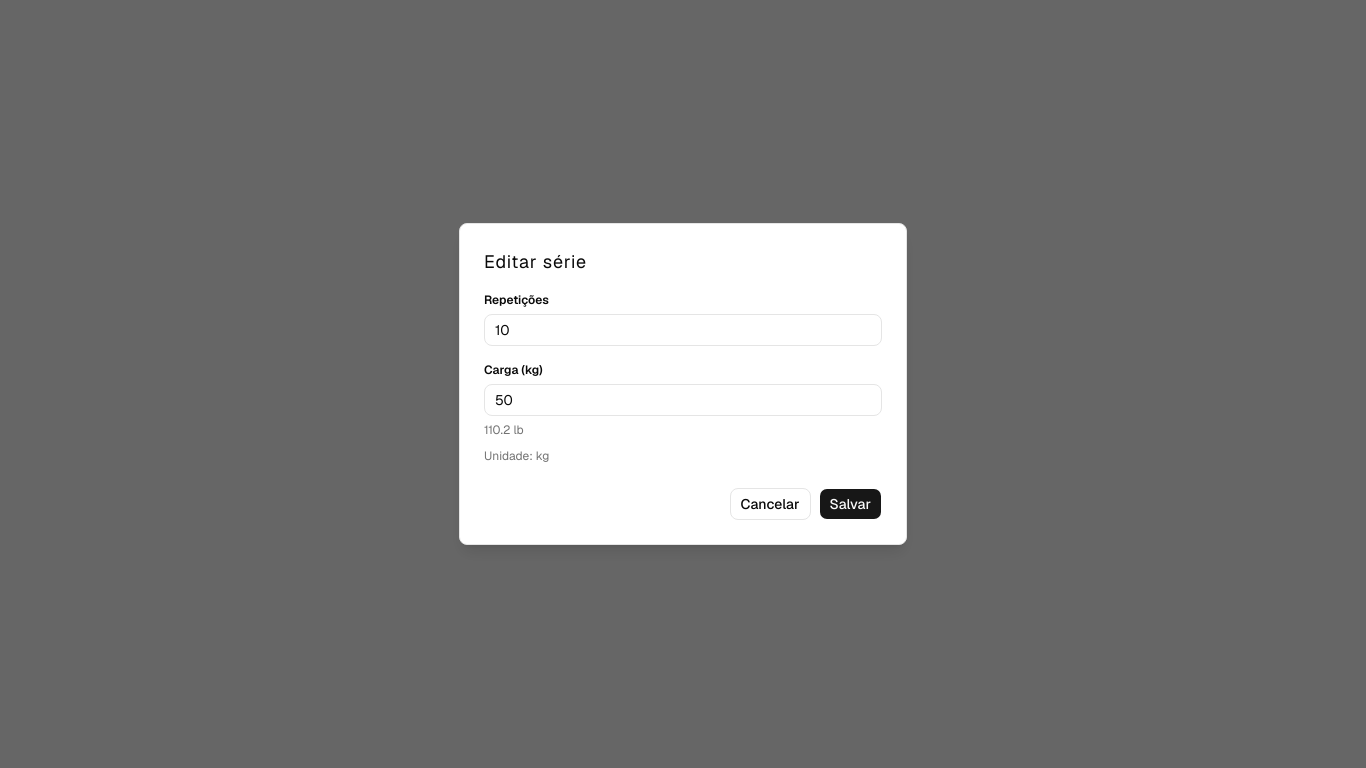
Test: SeriesEditModal (TASK-005 — RED) › validação herdada mostra mensagem visível e mantém o modal aberto
Replace the text in the field labelled "Repetições" with "abc" at (683, 330), box [484,314,882,346]
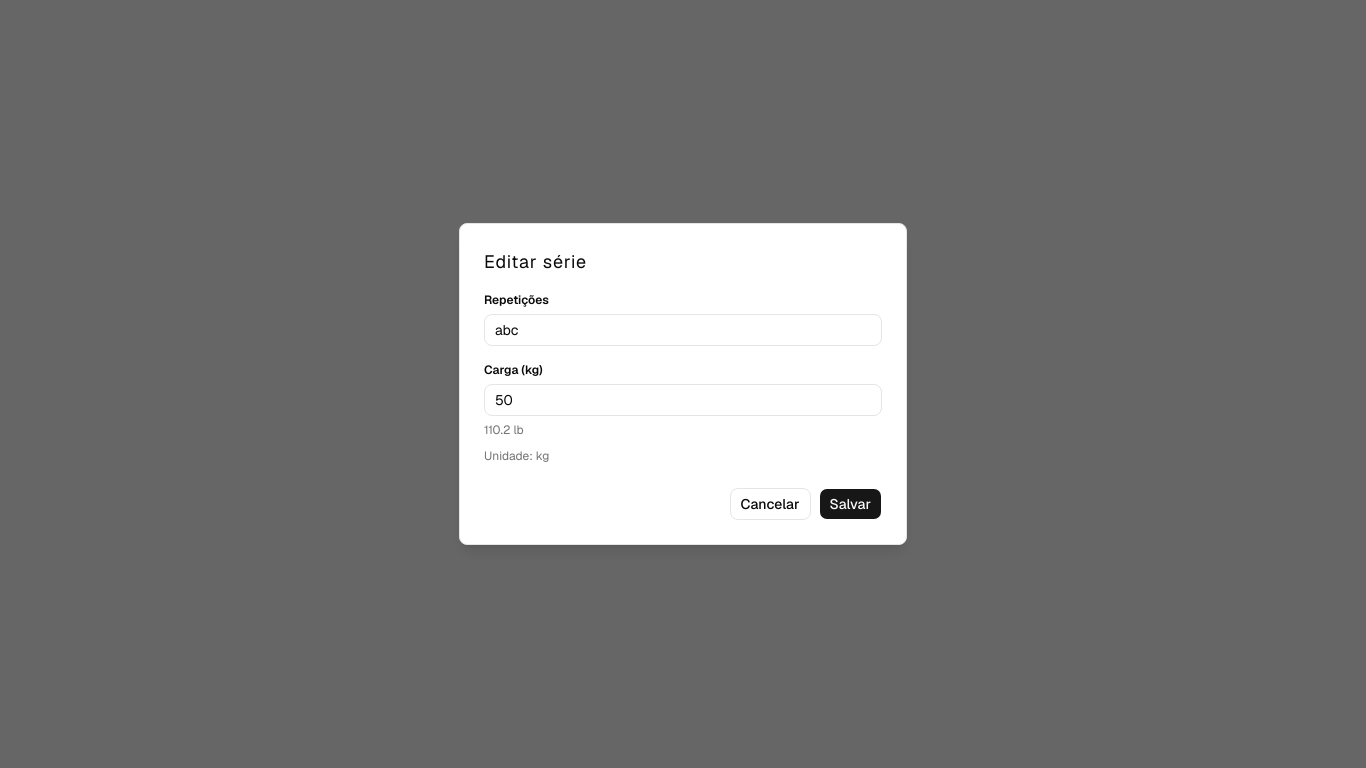
Click the button "Salvar".
click(850, 504)  # box [818,488,882,520]
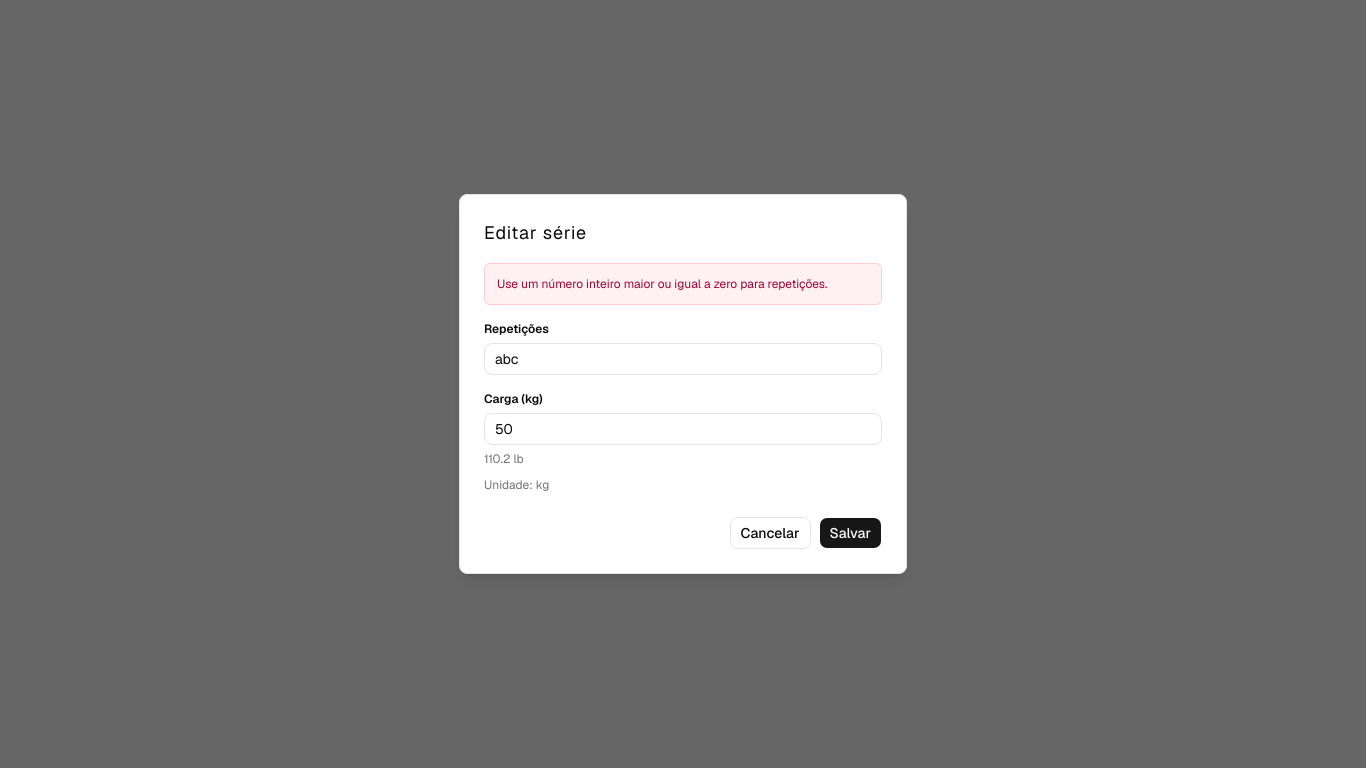
Expected: the button "Salvar" is shown, [818,517,882,549]
Now the text "Use um número inteiro maior ou igual a zero para repetições." is shown, box [484,263,882,305]
